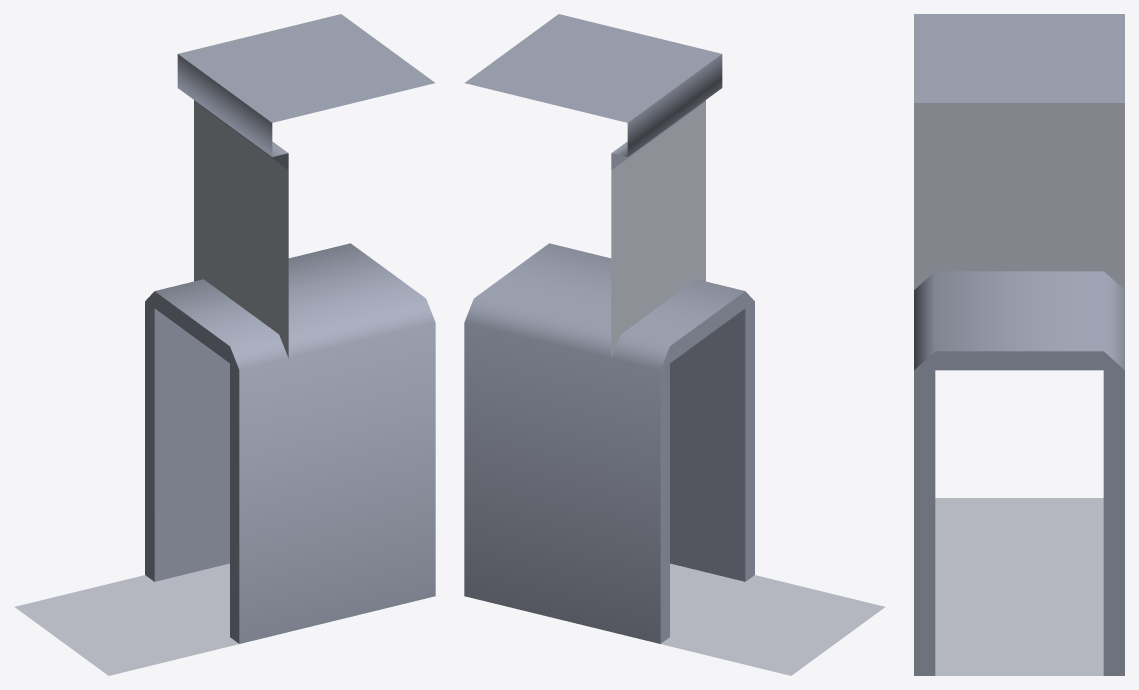
The model's file is structure-doorway.fbx.
The picture shows the model from 3 angles, left to right: view 1: azimuth 30°, elevation 25°; view 2: azimuth 150°, elevation 25°; view 3: azimuth 270°, elevation 25°; orthographic projection. The views are drawn at different scales.
Visible parts, largest first — view 1: structure-doorway; view 2: structure-doorway; view 3: structure-doorway.
Boxes of the visible parts, x1,y1,x2,y2 form: structure-doorway: (15, 14, 435, 675); structure-doorway: (464, 14, 884, 675); structure-doorway: (914, 14, 1124, 675).
Bounding box in the file's own units: 200 × 300 × 100.
